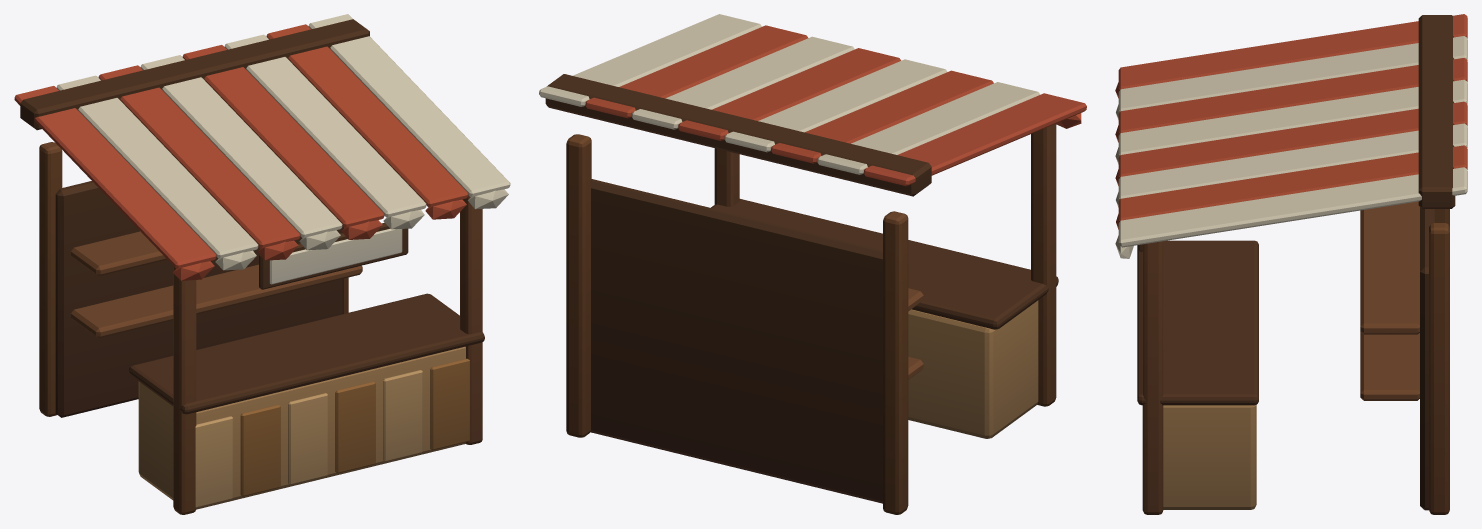
The model's file is stall_terra.glb.
3 renders of one model, left to right at view 1: azimuth 30°, elevation 25°; view 2: azimuth 150°, elevation 25°; view 3: azimuth 270°, elevation 25°, orthographic. The views are drawn at different scales.
Parts seen in each view (by area): view 1: stall_terra; view 2: stall_terra; view 3: stall_terra.
Part boxes in pixels (x1=…): stall_terra: x1=14, y1=14, x2=510, y2=514; stall_terra: x1=539, y1=14, x2=1086, y2=514; stall_terra: x1=1115, y1=14, x2=1467, y2=514.
Size of the model in its own units: 3.4 by 3.06 by 2.89.
